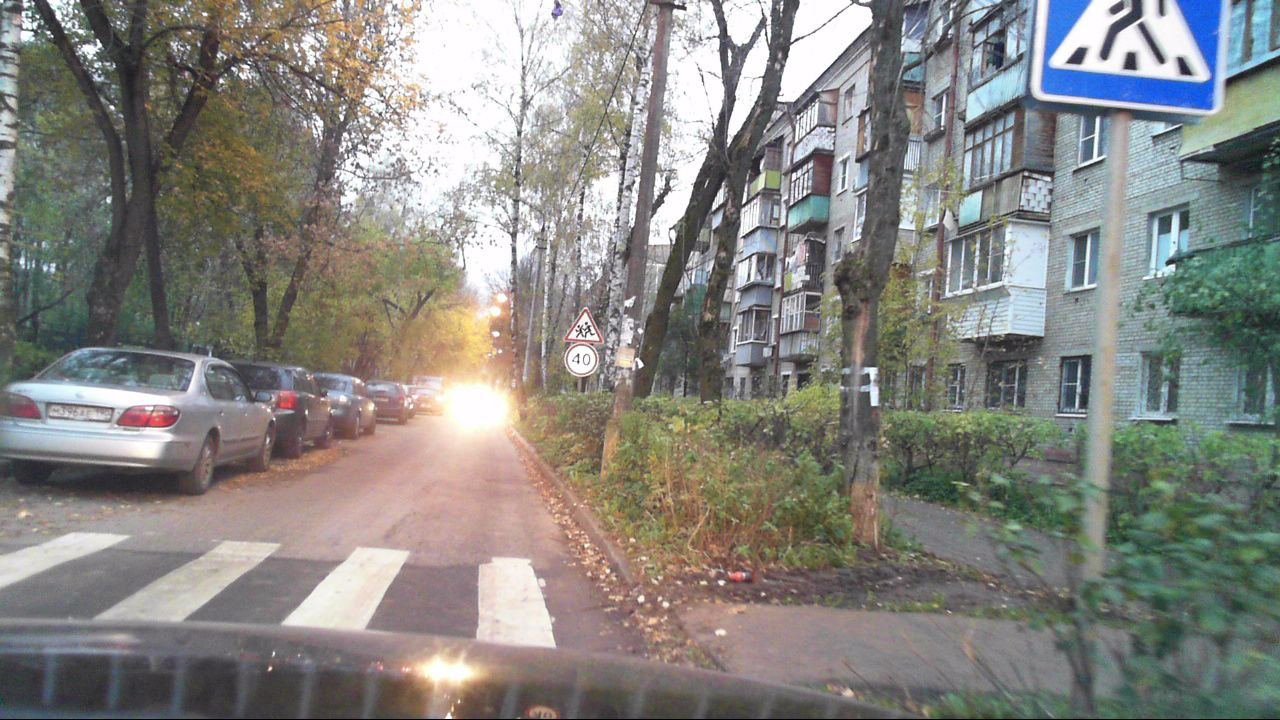speed_warning_40: (563, 342, 597, 376)
